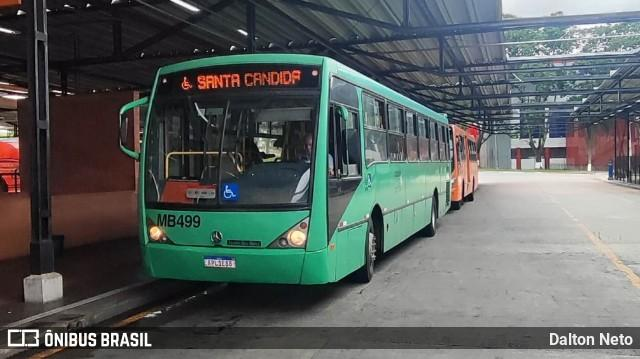SANTA CANDIDA: (194, 66, 303, 92)
